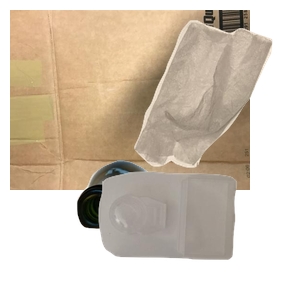cardboard: (10, 10, 250, 190)
glass: (74, 158, 223, 300)
plastic: (96, 169, 300, 300)
trash: (132, 17, 300, 177)
